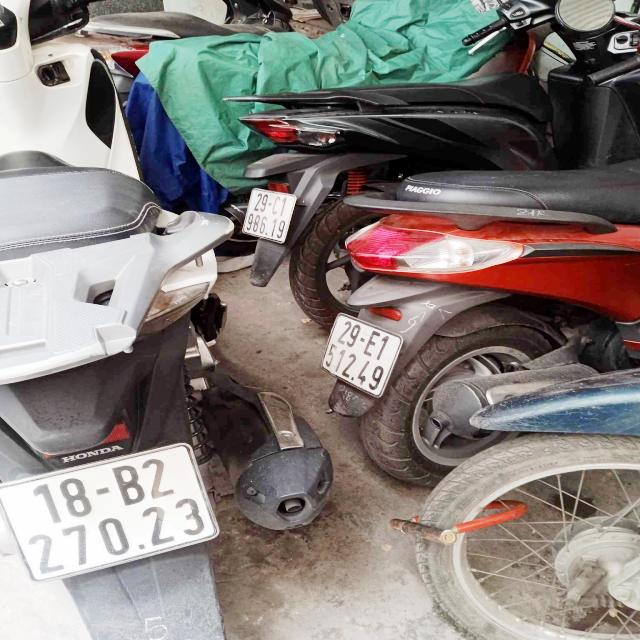license_plate: (1, 439, 227, 585)
